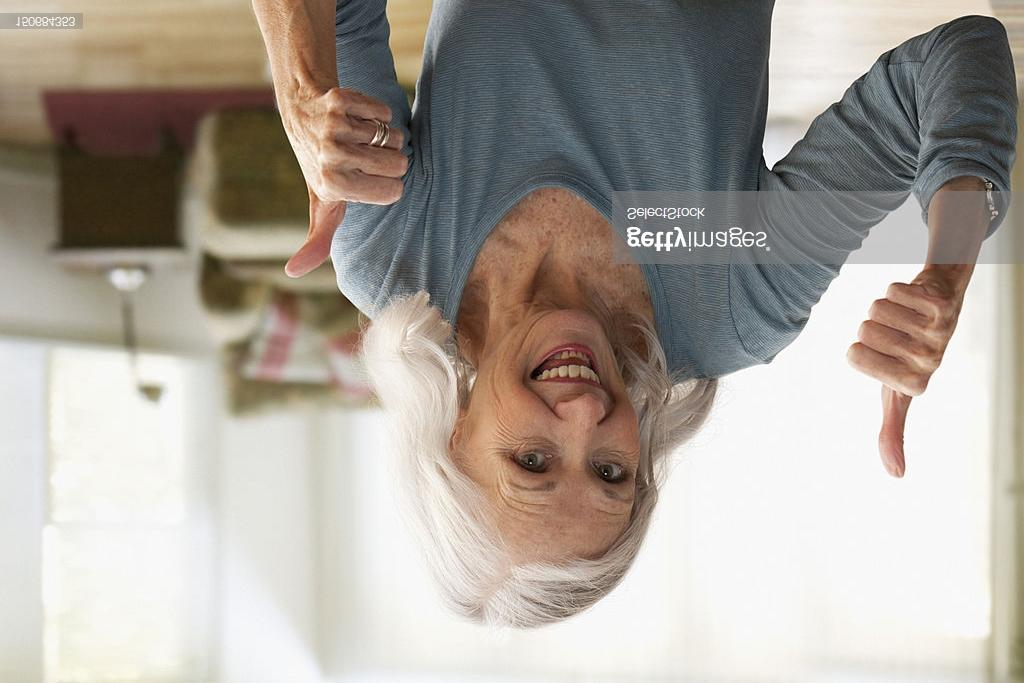thumbsdown: (283, 86, 409, 279), (845, 282, 952, 480)
